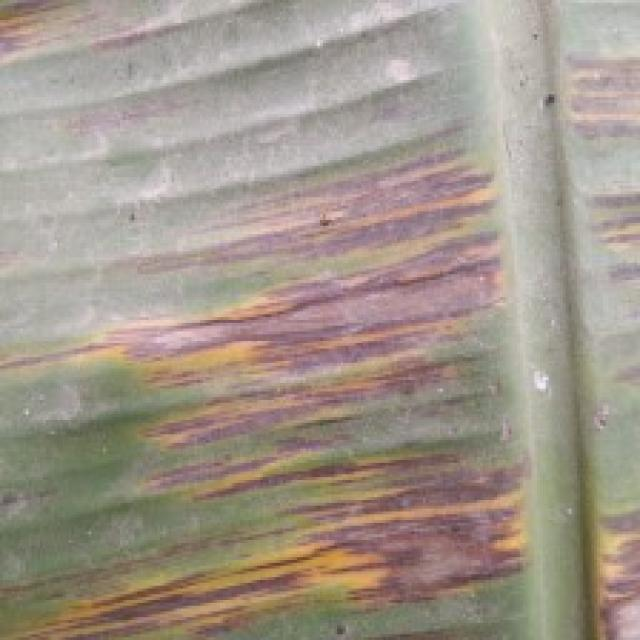Early_leaf_spot: (0, 258, 532, 635), (108, 155, 497, 256), (560, 39, 640, 283), (0, 0, 183, 66), (571, 494, 640, 640), (49, 90, 202, 136)
